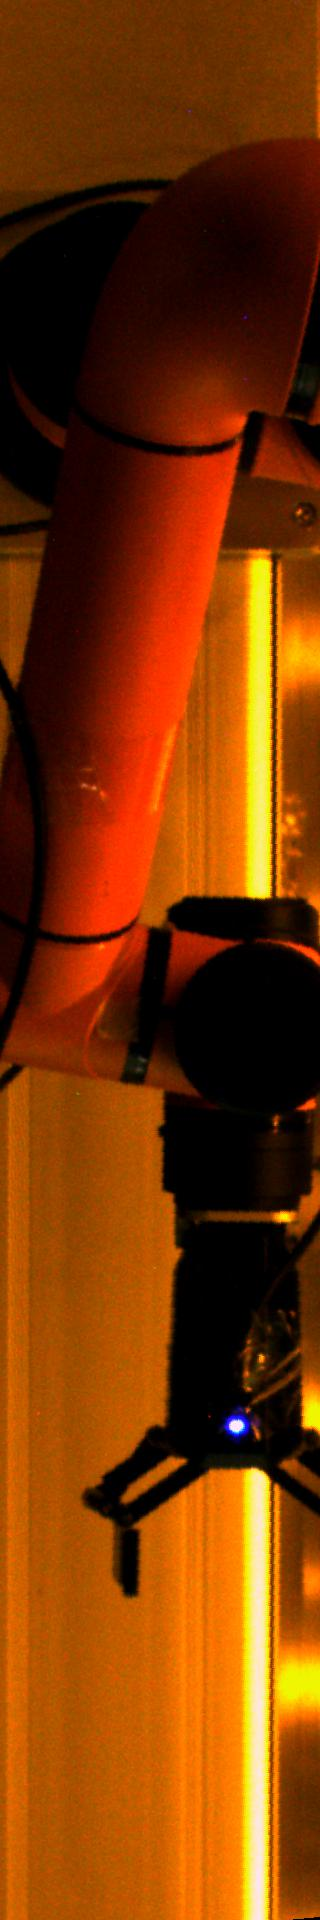keyPoint_1: (221, 1408, 251, 1438)
